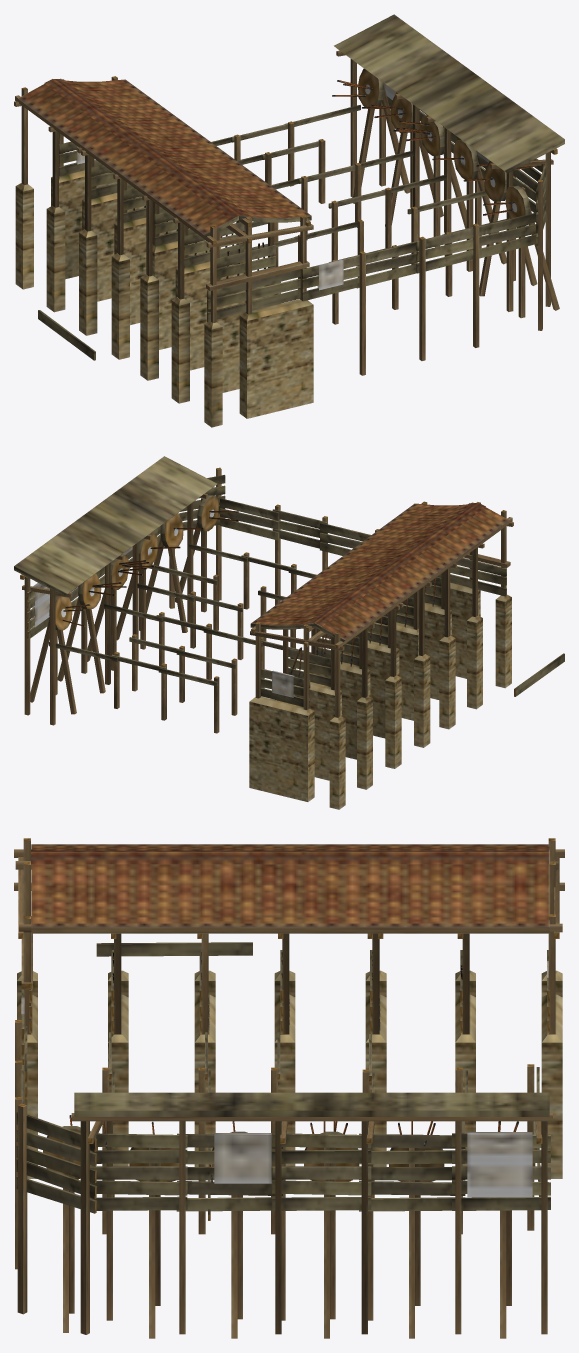
The model's file is s_spartans_range.glb.
3 views of the same model, one above another, from view 1: azimuth 30°, elevation 25°; view 2: azimuth 150°, elevation 25°; view 3: azimuth 270°, elevation 25° (orthographic). The views are drawn at different scales.
Parts seen in each view (by area): view 1: s_spartans_range_part0; view 2: s_spartans_range_part0; view 3: s_spartans_range_part0.
Part boxes in pixels (bbox=[...]): s_spartans_range_part0: bbox=[14, 14, 564, 427]; s_spartans_range_part0: bbox=[14, 456, 564, 809]; s_spartans_range_part0: bbox=[14, 838, 564, 1338].
Bounding box in the file's own units: 3.8 × 1.58 × 2.82.
Materials: 1 (1 with a texture image).
